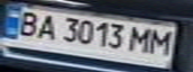0: (75, 18, 93, 46)
1: (93, 20, 109, 50)
3: (106, 21, 130, 52), (57, 15, 81, 45)
A: (30, 12, 60, 42)
B: (9, 8, 45, 38)
M: (145, 27, 178, 56), (127, 25, 157, 55)
